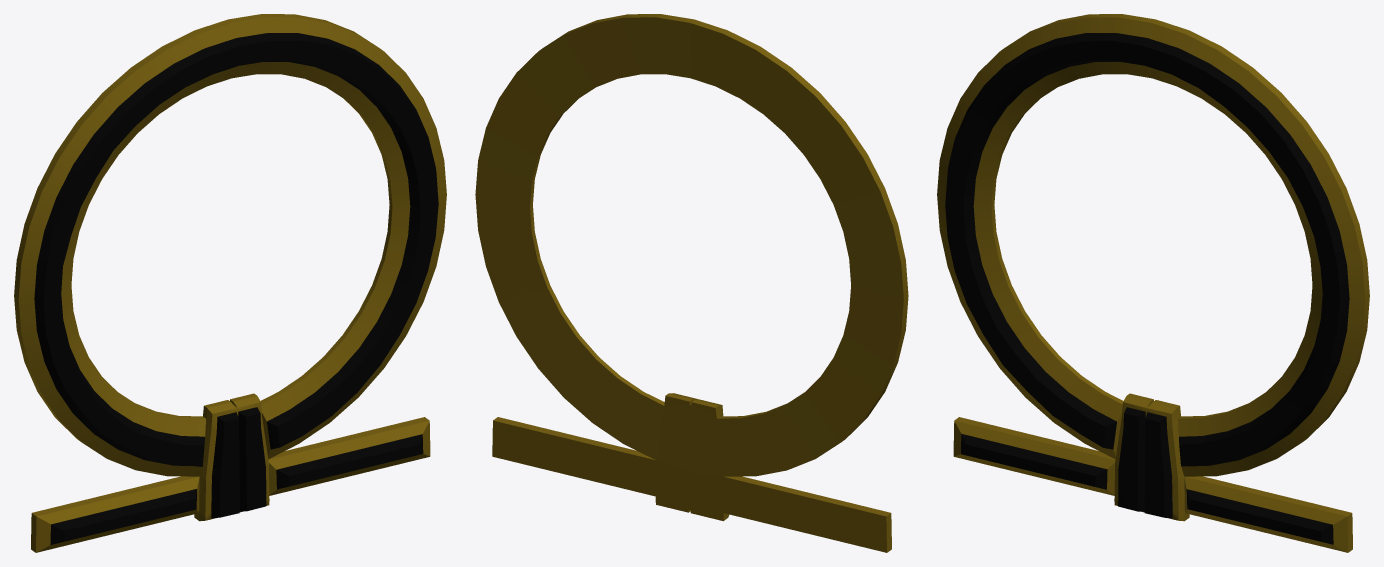
The model's file is Jeroglifico 2.fbx.
The picture shows the model from 3 angles, left to right: view 1: azimuth 30°, elevation 25°; view 2: azimuth 150°, elevation 25°; view 3: azimuth 330°, elevation 25°; orthographic projection.
Parts seen in each view (by area): view 1: pSphere1; view 2: pSphere1; view 3: pSphere1.
Boxes of the visible parts, left/top/right/bottom form: pSphere1: left=14, top=14, right=446, bottom=552; pSphere1: left=475, top=14, right=908, bottom=552; pSphere1: left=937, top=14, right=1369, bottom=552.
Size of the model in its own units: 486 by 532 by 29.45.
